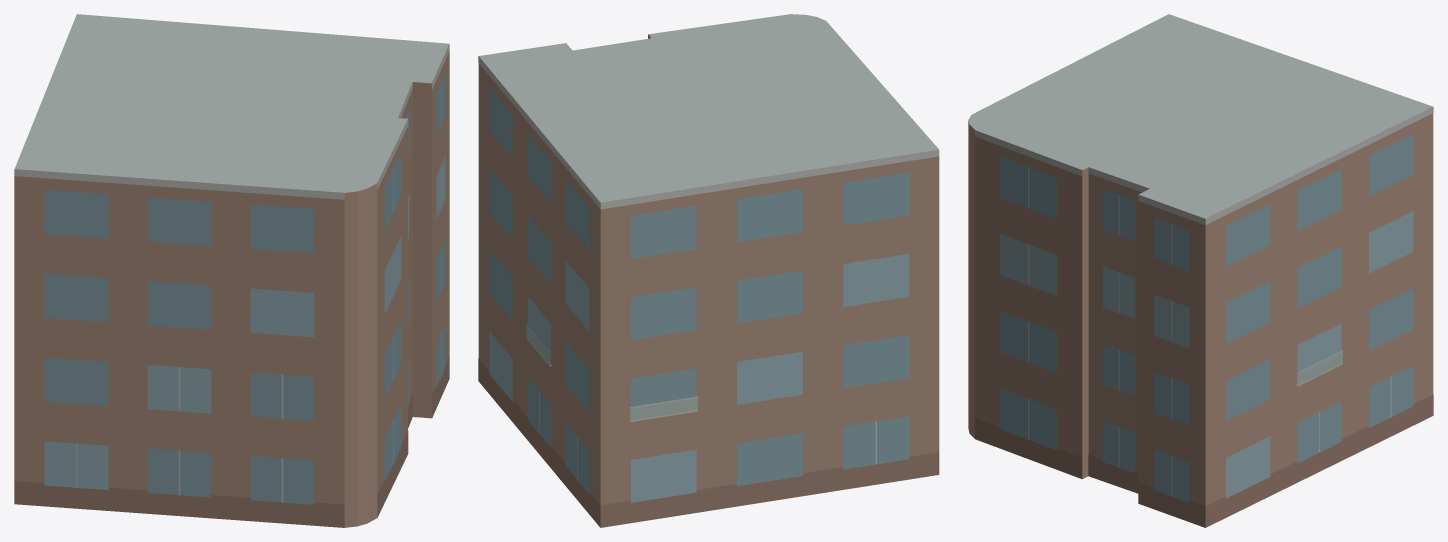
The model's file is survey-upis-32671371.glb.
3 views of the same model, side by side, from view 1: azimuth 30°, elevation 25°; view 2: azimuth 150°, elevation 25°; view 3: azimuth 270°, elevation 25° (orthographic). The views are drawn at different scales.
Visible parts, largest first — view 1: survey-upis-32671371.tmp; view 2: survey-upis-32671371.tmp; view 3: survey-upis-32671371.tmp.
Part boxes in pixels (box(x1,y1,x2,y2)): survey-upis-32671371.tmp: box(14, 14, 449, 527); survey-upis-32671371.tmp: box(478, 14, 939, 527); survey-upis-32671371.tmp: box(968, 14, 1433, 527).
Size of the model in its own units: 16.78 by 11.8 by 16.09.
